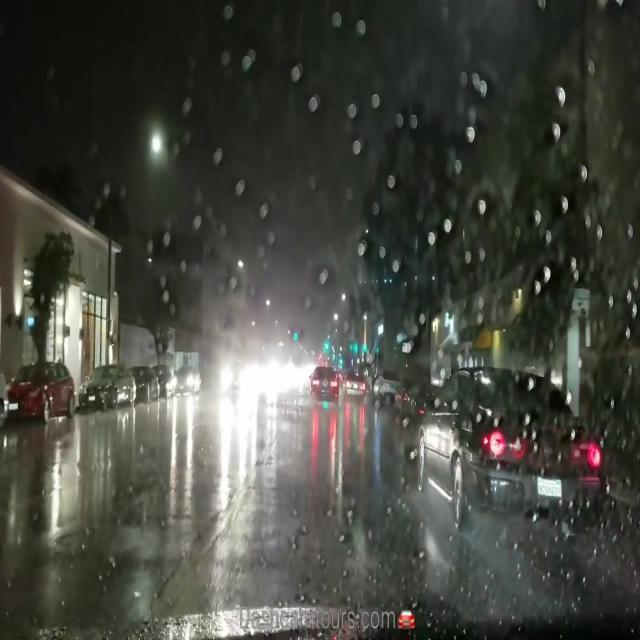Car: (415, 368, 599, 523), (6, 359, 75, 419), (77, 363, 134, 414), (306, 367, 337, 401), (340, 370, 365, 405)
